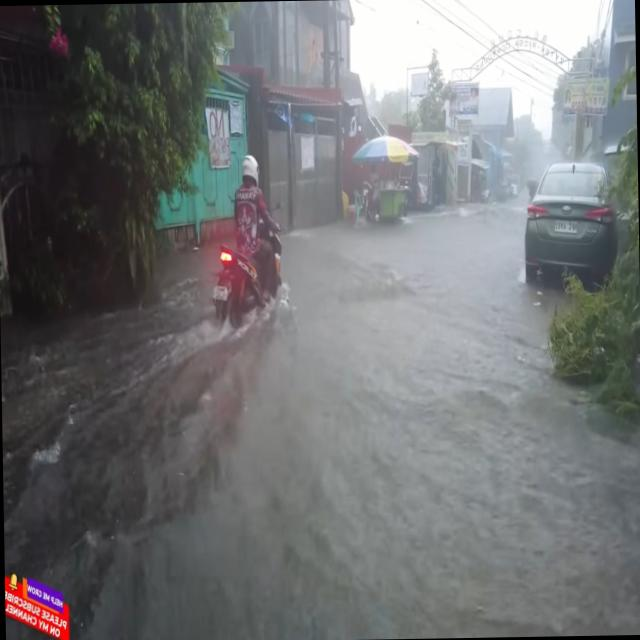full: (235, 149, 262, 191)
